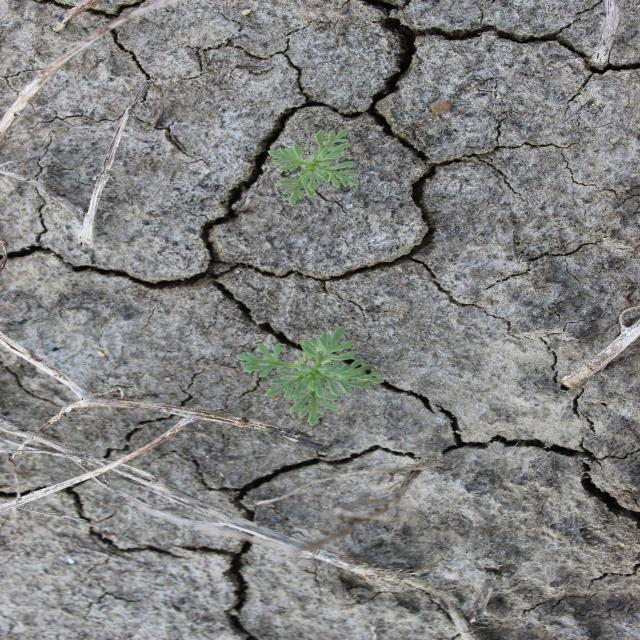Ragweed: (233, 325, 387, 427), (266, 127, 361, 205)
